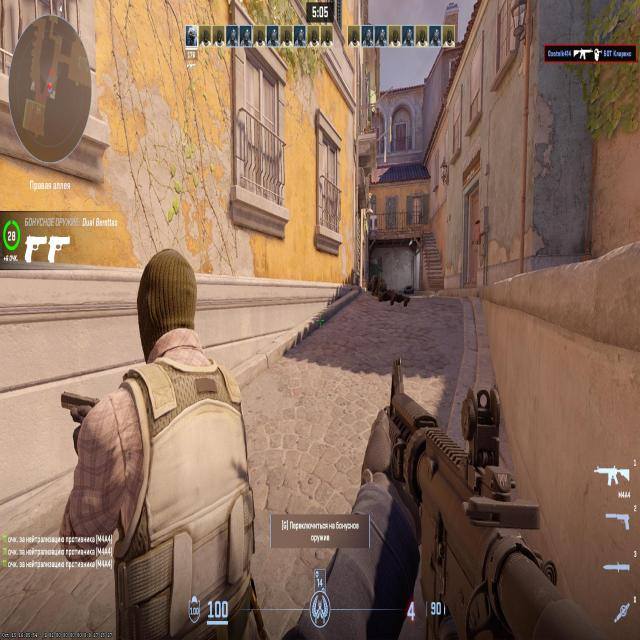T: (138, 261, 228, 590)
T_heat: (145, 285, 190, 360)
